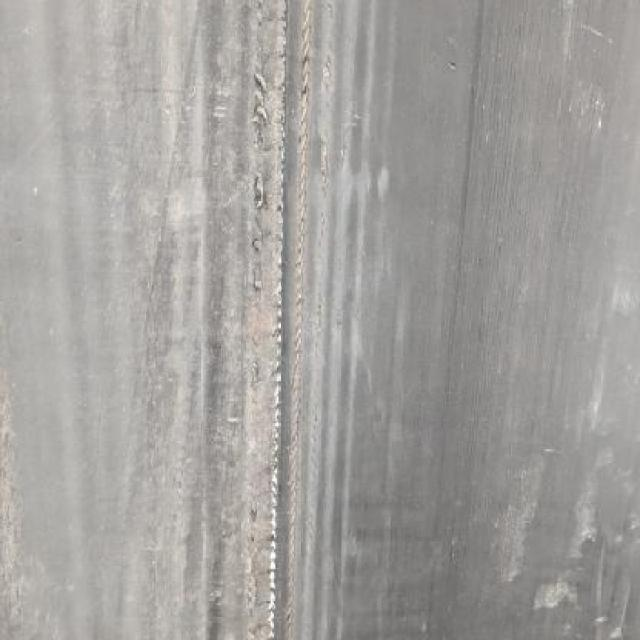Wear: (234, 0, 324, 640)
